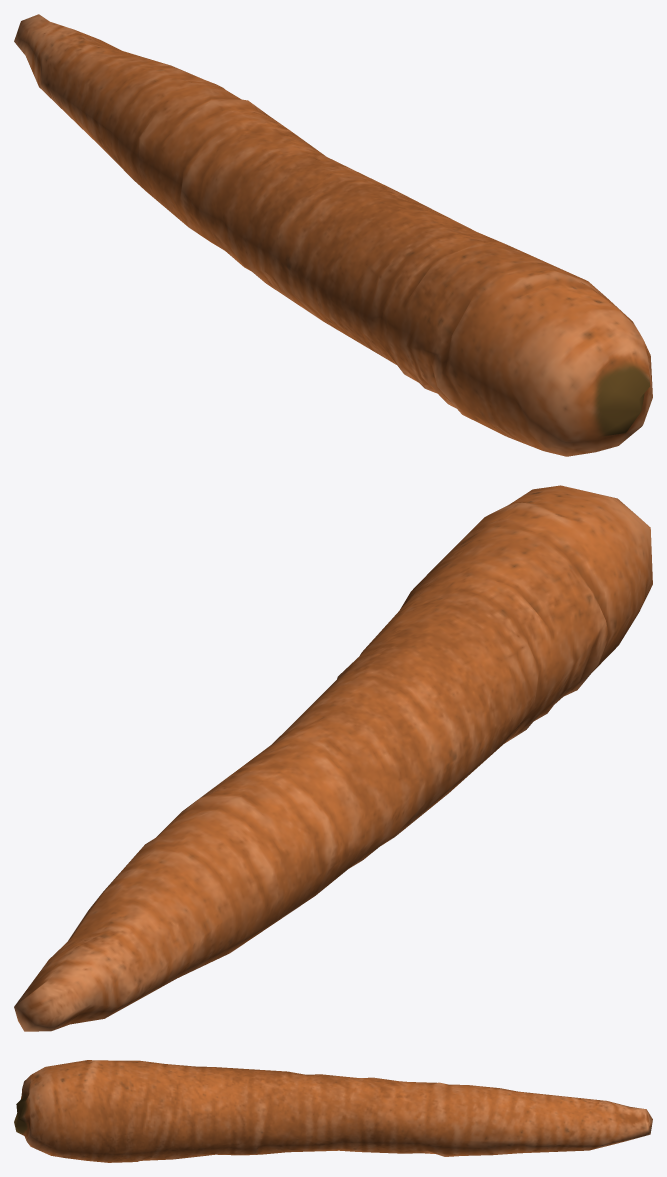
File: SM_Carrot.fbx
3 views of the same model, one above another, from view 1: azimuth 30°, elevation 25°; view 2: azimuth 150°, elevation 25°; view 3: azimuth 270°, elevation 25° (orthographic). The views are drawn at different scales.
Parts seen in each view (by area): view 1: SM_Carrot_LOD0; view 2: SM_Carrot_LOD0; view 3: SM_Carrot_LOD0.
Boxes of the visible parts, bbox=[...] form: SM_Carrot_LOD0: bbox=[14, 14, 652, 456]; SM_Carrot_LOD0: bbox=[14, 485, 652, 1031]; SM_Carrot_LOD0: bbox=[14, 1060, 652, 1162].
Bounding box in the file's own units: 4.23 × 25.31 × 4.13.
Materials: 1 (1 with a texture image).
